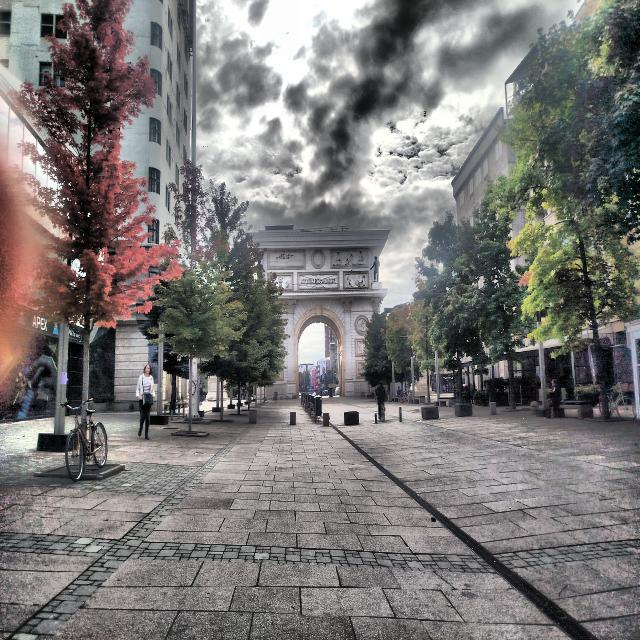triumphal arch: (238, 221, 391, 400)
